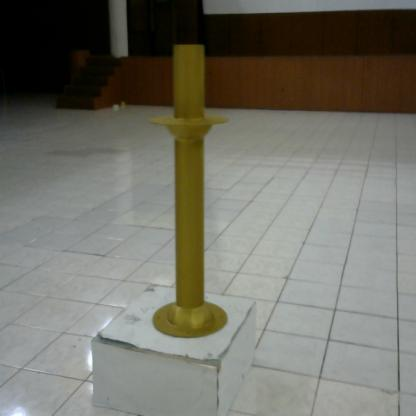pole: (139, 38, 243, 353)
